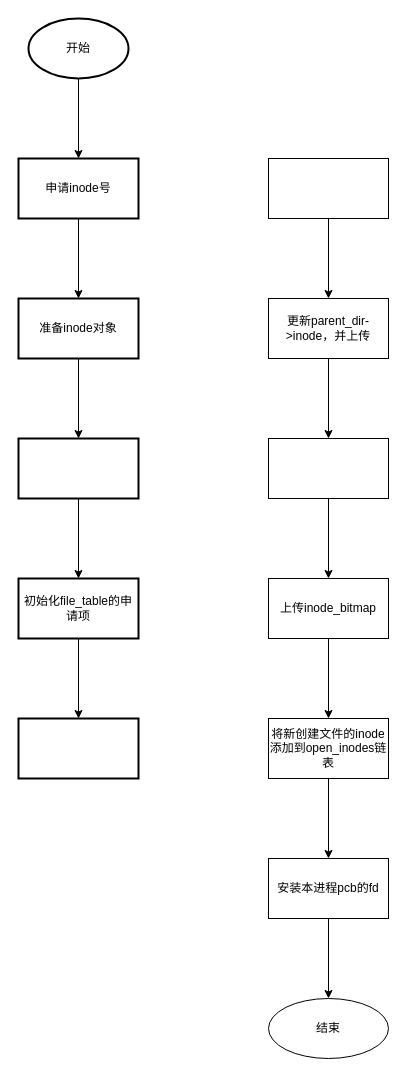
The diagram is 406 pixels wide and 1076 high, and some of its shapes have lost their labels. The shapes that lost their labels are listed below. From the top down, each one's centre as x and y in pixels, then its label:
At point 328,188: "上传dir_entry".
At point 78,468: "申请file_table空位".
At point 328,468: "上传新创建inode".
At point 78,748: "准备dir_entry对象".
